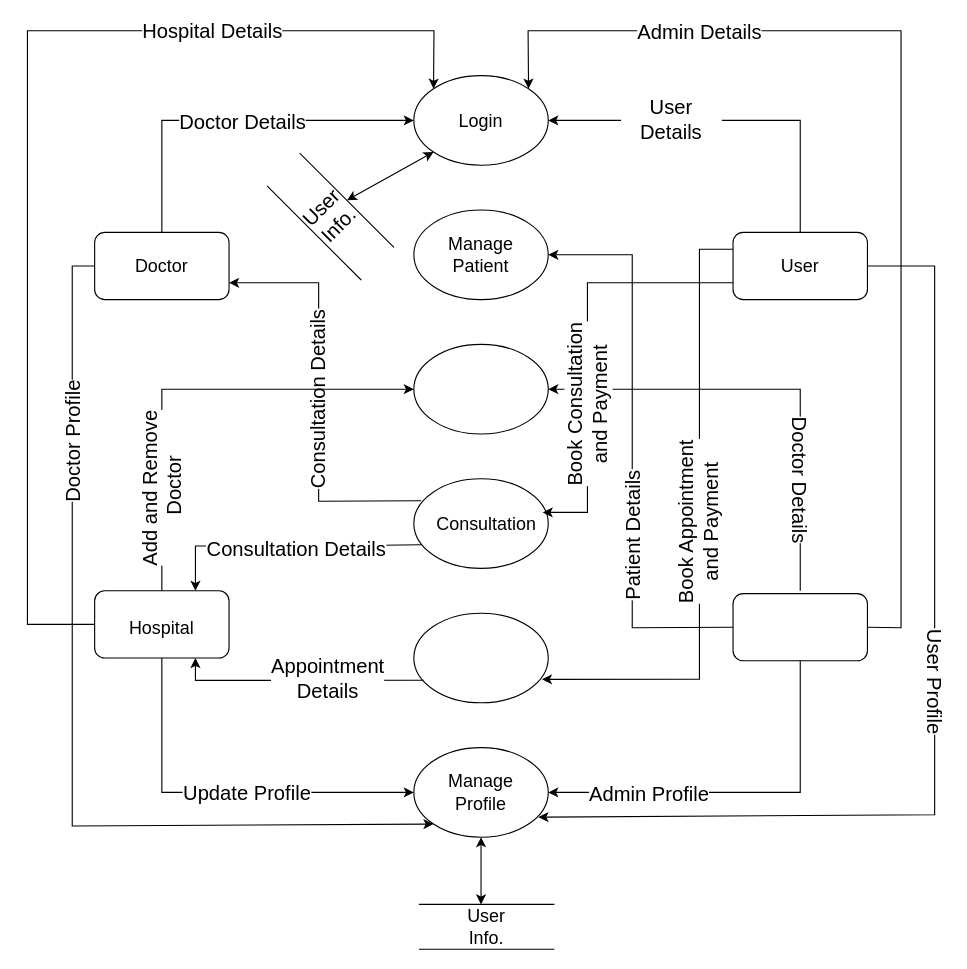
The diagram is 967 pixels wide and 969 high, and some of its shapes have lost their labels. Here are the shapes that lost their labels. From the top down, the centre of each, then its label:
At point (480, 388): "Manage Doctor".
At point (799, 626): "Admin".
At point (480, 657): "Appointment".
